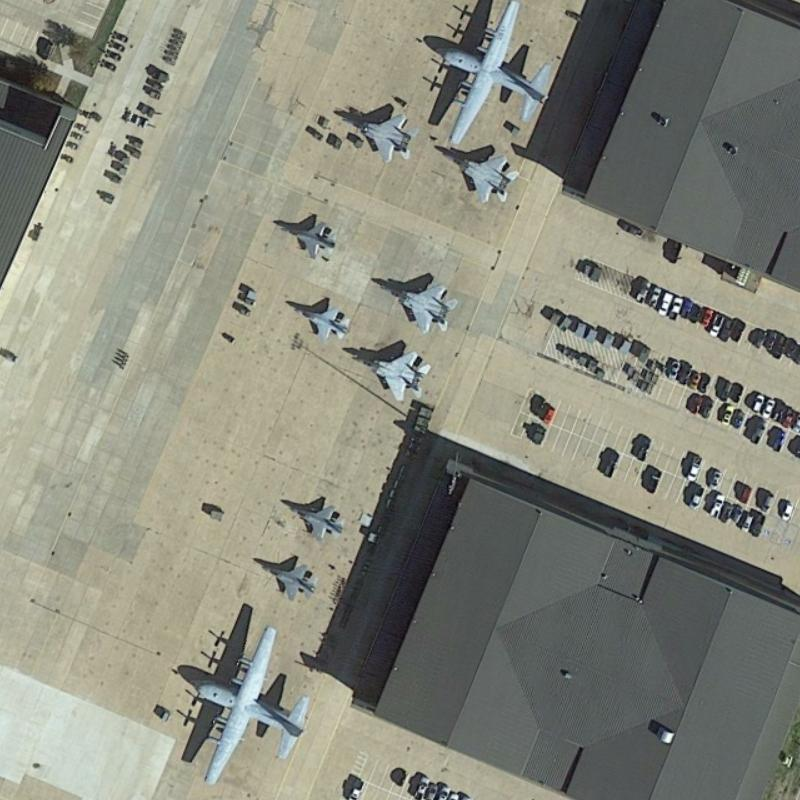A13: (371, 267, 467, 342), (342, 341, 442, 409), (325, 95, 416, 168), (438, 146, 528, 209)
A2: (175, 617, 314, 793), (416, 0, 559, 149)
A5: (275, 486, 354, 544), (248, 548, 328, 605), (279, 293, 356, 350), (270, 210, 345, 268)
